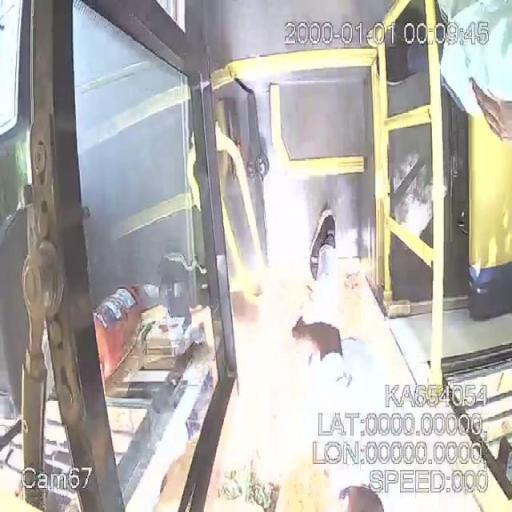persona: (287, 205, 396, 512), (438, 0, 512, 144)
